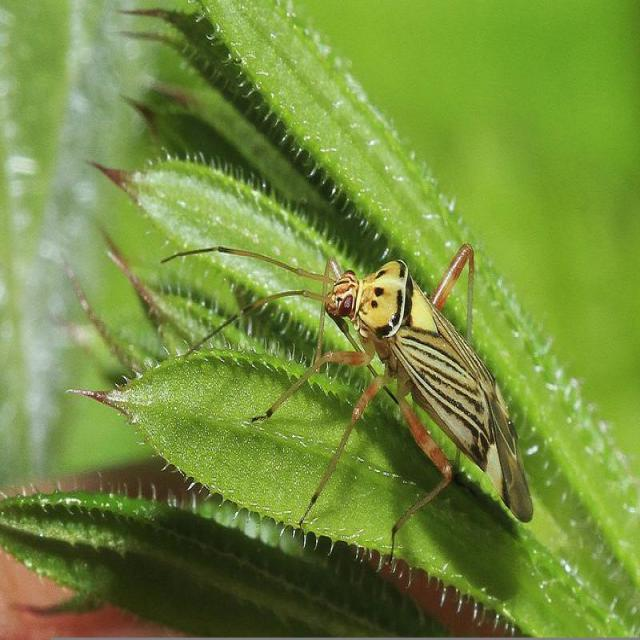Miridae-Adult-: (160, 222, 536, 565)
